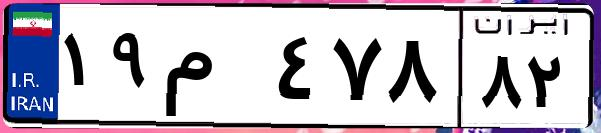1: (57, 26, 110, 100)
2: (525, 38, 570, 115)
4: (270, 28, 330, 110)
7: (330, 28, 385, 110)
8: (385, 28, 445, 110), (475, 38, 525, 113)
9: (110, 28, 158, 98)
م: (158, 20, 270, 120)
